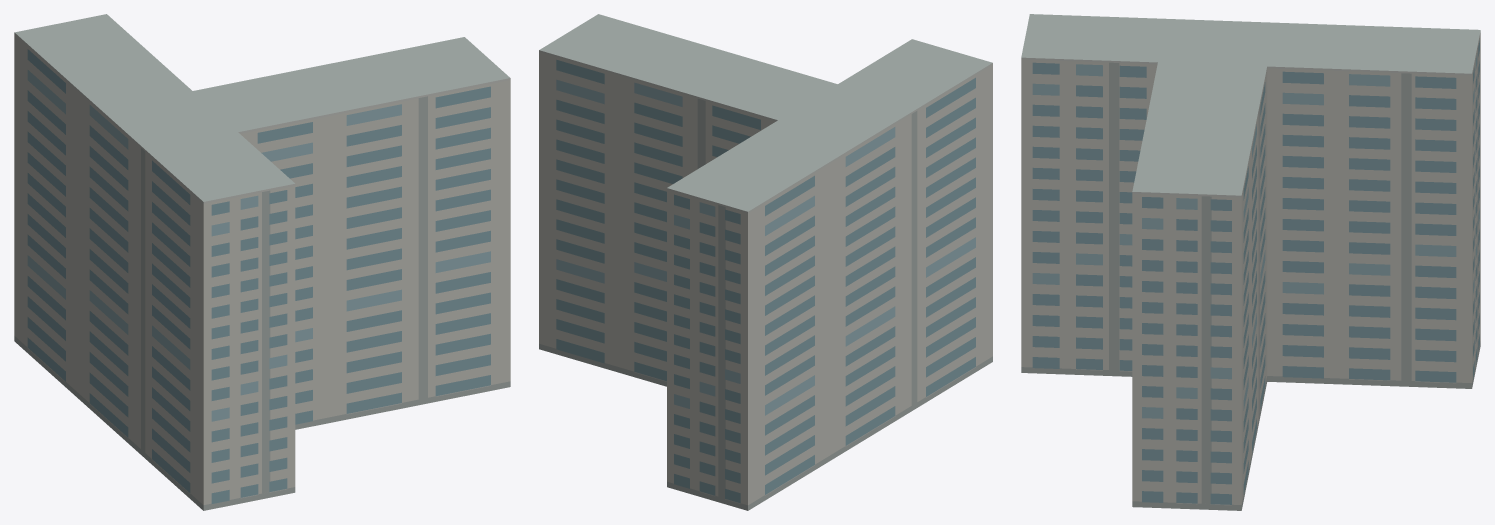
Rendered from residential-7c8a9af9-23db-40c0-a547-ba4521d123a6.glb.
3 renders of one model, left to right at view 1: azimuth 30°, elevation 25°; view 2: azimuth 150°, elevation 25°; view 3: azimuth 270°, elevation 25°, orthographic. The views are drawn at different scales.
Visible parts, largest first — view 1: residential-7c8a9af9-23db-40c0-a547-ba4521d123a6.tmp; view 2: residential-7c8a9af9-23db-40c0-a547-ba4521d123a6.tmp; view 3: residential-7c8a9af9-23db-40c0-a547-ba4521d123a6.tmp.
Part boxes in pixels (box(x1,y1,x2,y2)): residential-7c8a9af9-23db-40c0-a547-ba4521d123a6.tmp: box(14, 14, 510, 510); residential-7c8a9af9-23db-40c0-a547-ba4521d123a6.tmp: box(539, 14, 992, 510); residential-7c8a9af9-23db-40c0-a547-ba4521d123a6.tmp: box(1021, 14, 1480, 510).
Bounding box in the file's own units: 49.45 × 40 × 52.86.
